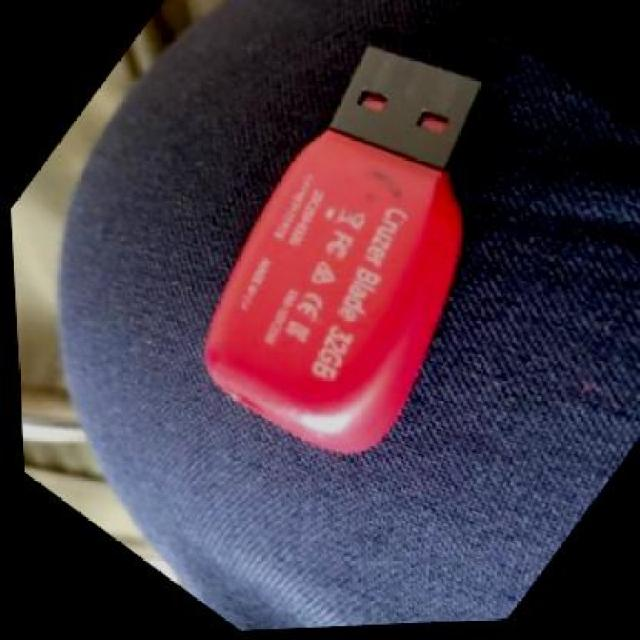Flashdisk: (114, 0, 635, 511)
